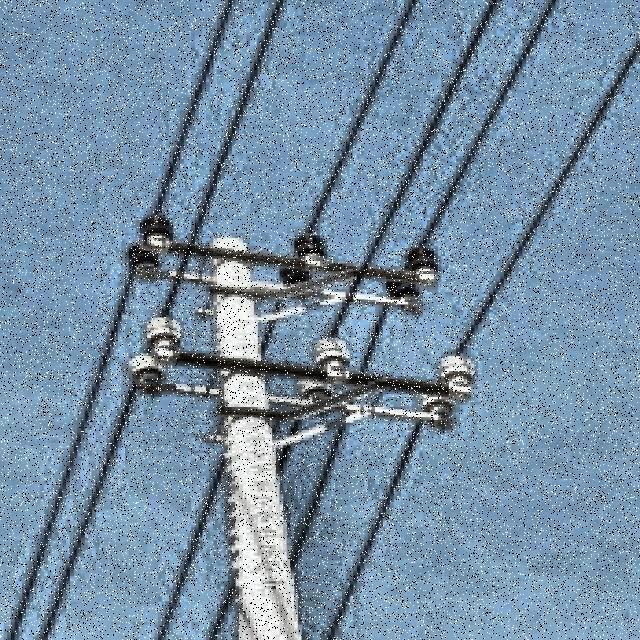crossarm: (168, 350, 462, 398), (143, 379, 449, 425), (150, 270, 419, 313), (161, 242, 435, 284)
pole: (205, 242, 306, 638)
wire: (3, 0, 236, 640), (360, 0, 560, 362), (455, 31, 640, 353), (333, 0, 505, 332), (158, 0, 286, 318), (304, 0, 420, 237), (39, 386, 138, 640), (322, 423, 422, 640), (151, 455, 224, 640), (285, 422, 348, 578), (208, 581, 236, 640)
